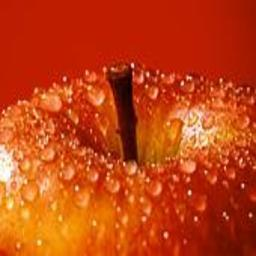apple: (1, 63, 256, 256)
